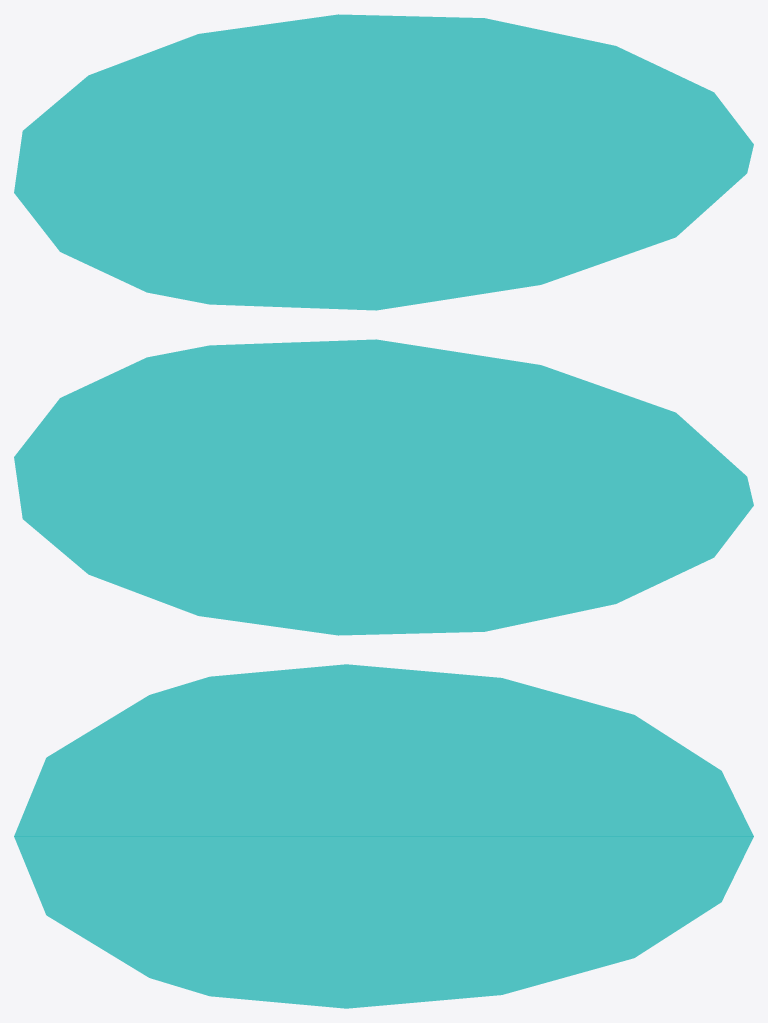
Rendered from dummy_mpie1.gltf.
3 renders of one model, top to bottom at view 1: azimuth 30°, elevation 25°; view 2: azimuth 150°, elevation 25°; view 3: azimuth 270°, elevation 25°, orthographic. The views are drawn at different scales.
Visible parts, largest first — view 1: dummy_mpie1; view 2: dummy_mpie1; view 3: dummy_mpie1.
Part boxes in pixels (x1,y1,x2,y2): dummy_mpie1: [14, 14, 753, 310]; dummy_mpie1: [14, 339, 753, 635]; dummy_mpie1: [14, 664, 753, 1008].
Bounding box in the file's own units: 0.3262 × 0 × 0.2961.
